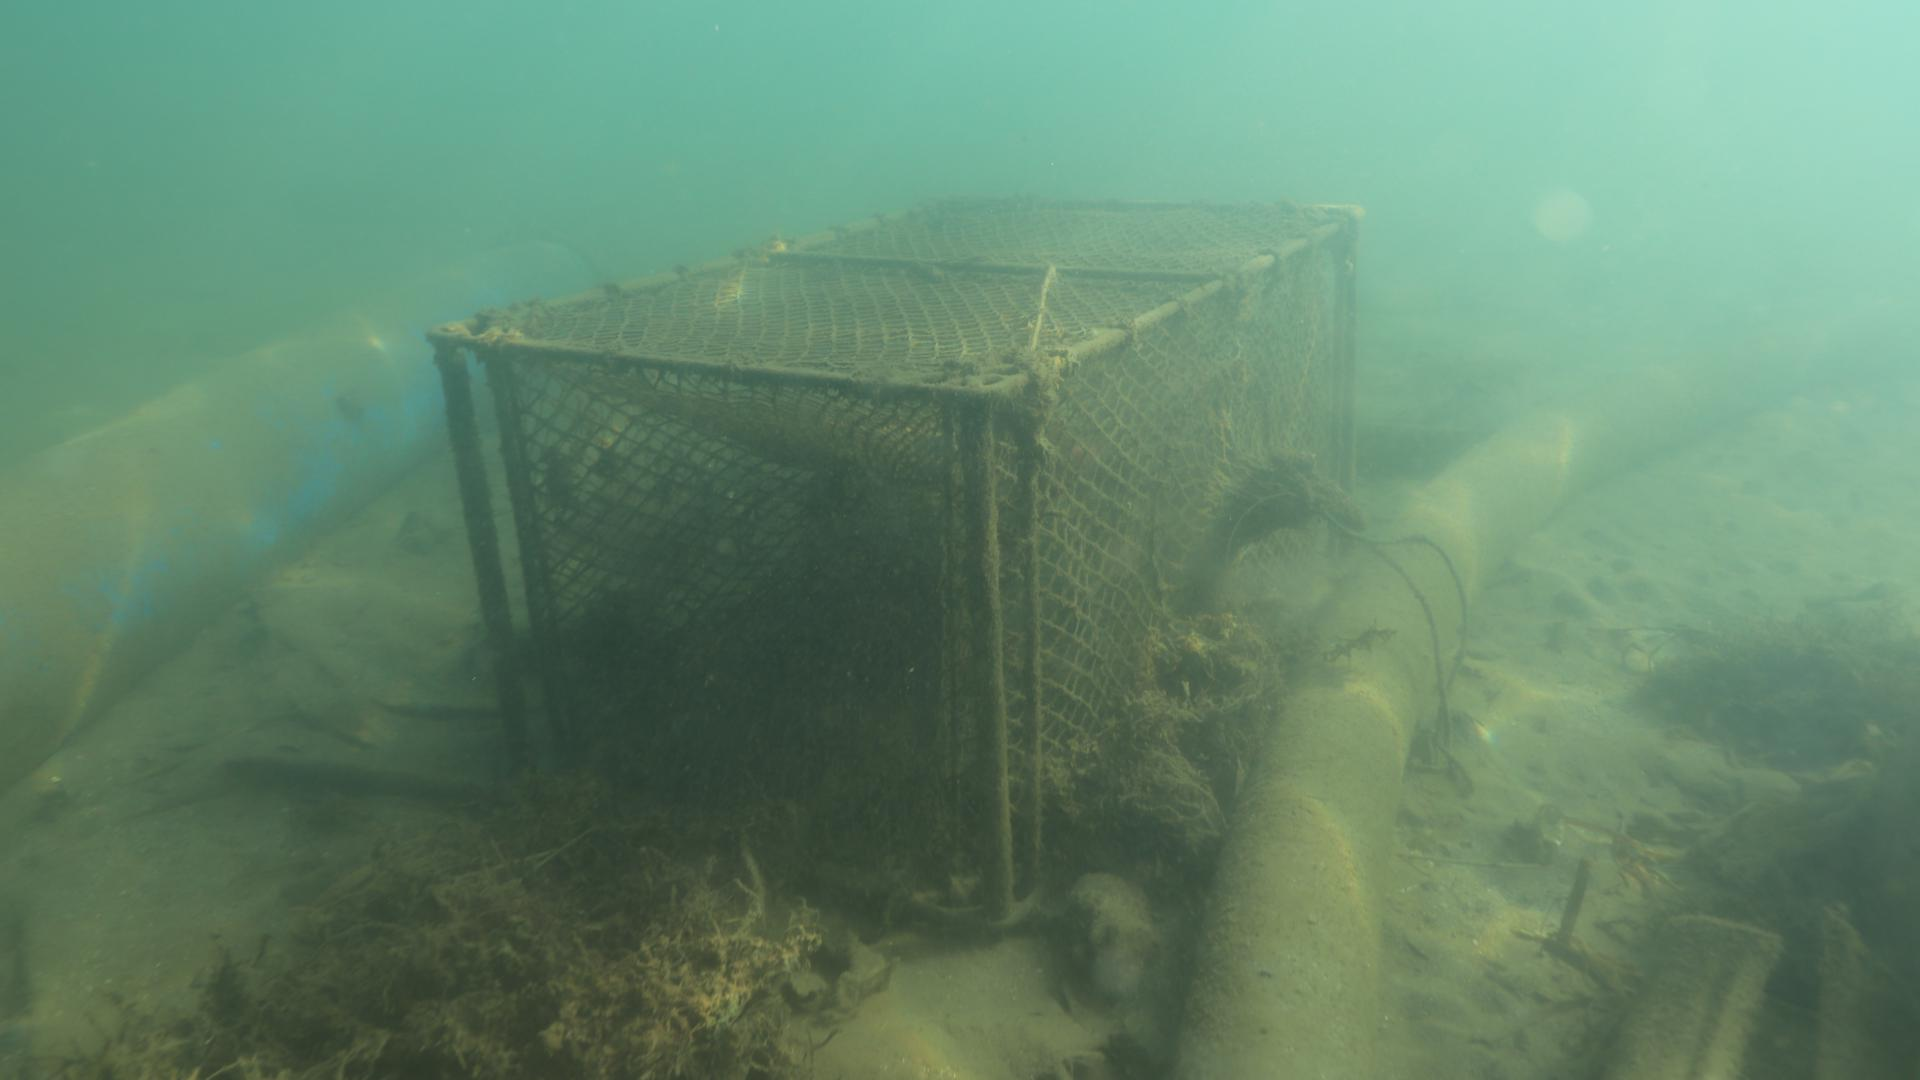rectangular fish trap: (425, 196, 1364, 931)
